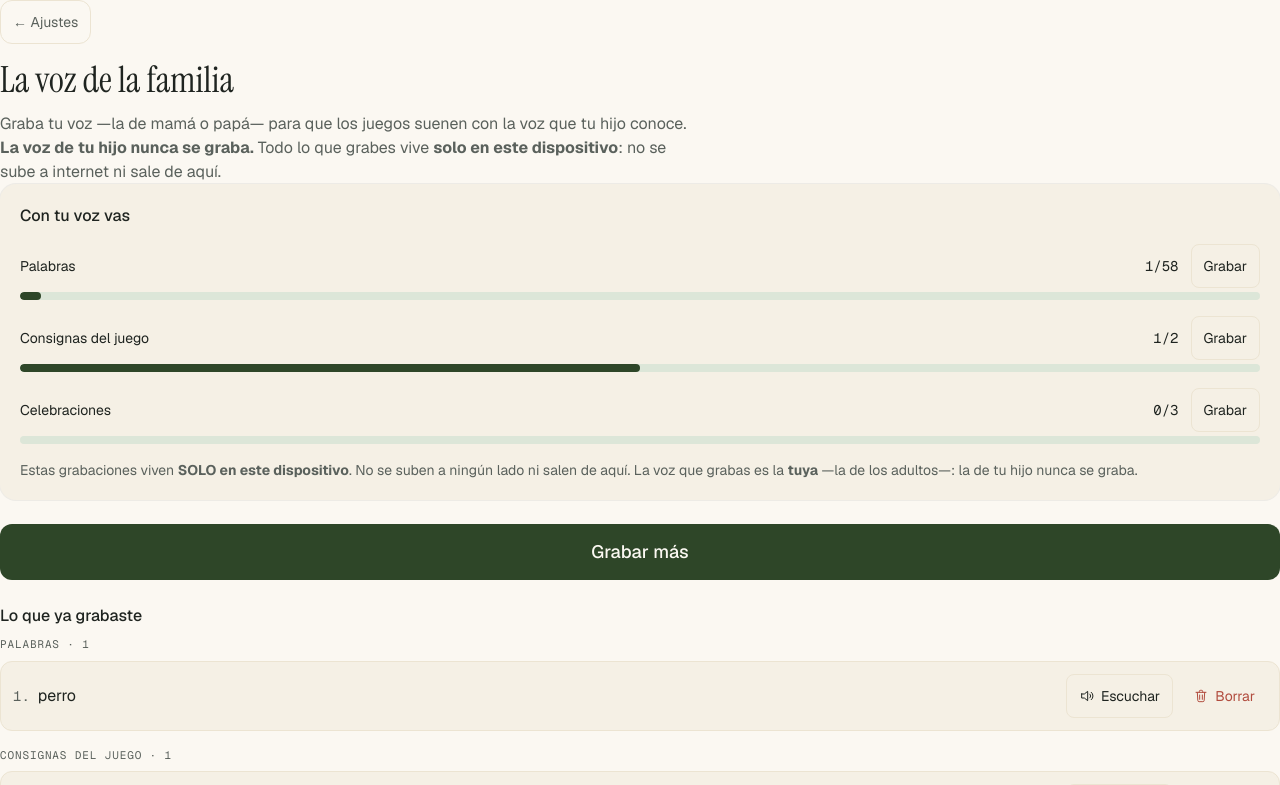
Scenario: EstudioCliente — vista de gestión (banco de voz) › cada grupo pendiente tiene su puerta al lote: «Grabar» acota la tanda (gate S4, K5)
The image size is (1280, 785).
// La consigna "aaah" ya está grabada → el lote de consignas arranca en la de la sirena.
What coordinates should you click on to do the following:
click the button with test id "grabar-consigna"
I would click on:
 (1225, 338)
Its box is [1190,316,1260,360].
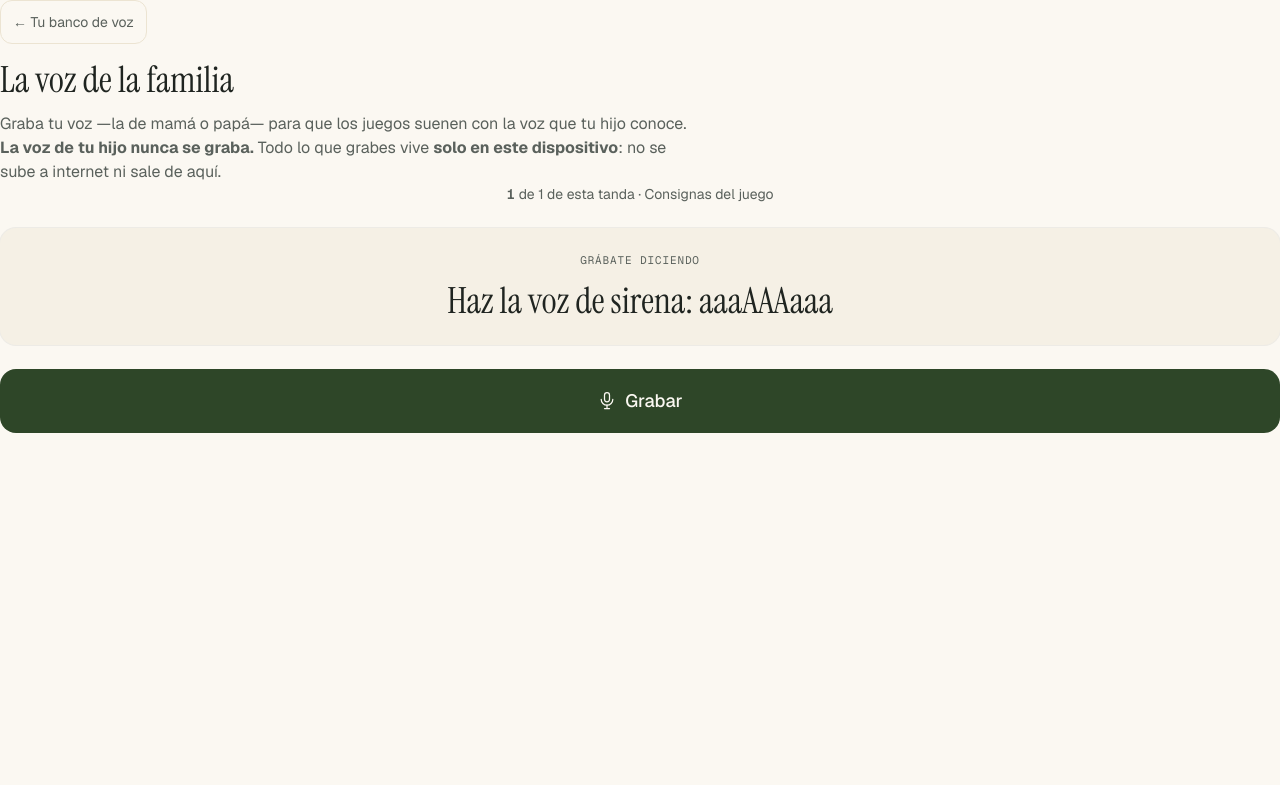
Now the element with test id "lote" is shown, box [0,184,1279,432]
Now the element with test id "progreso-lote" shows "Consignas del juego", box [635,185,774,203]
Now the text with test id "item-texto" shows "sirena", box [447,276,833,324]
